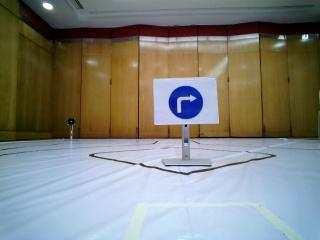right: (156, 82, 218, 120)
